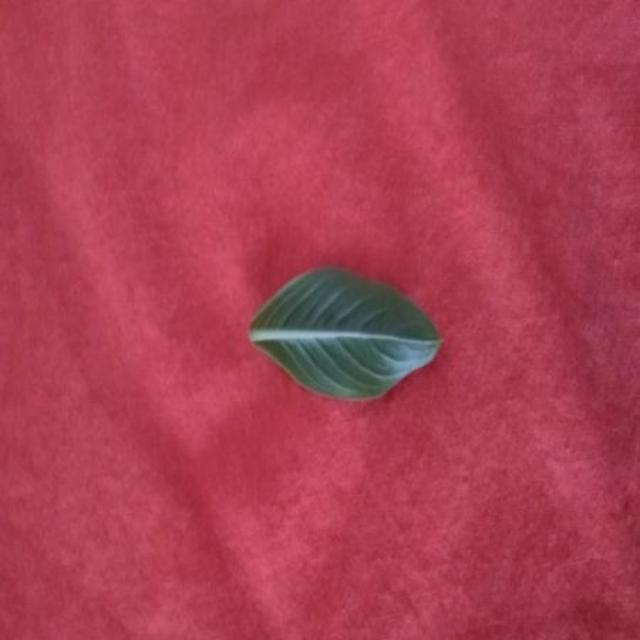catharanthus: (250, 268, 442, 399)
